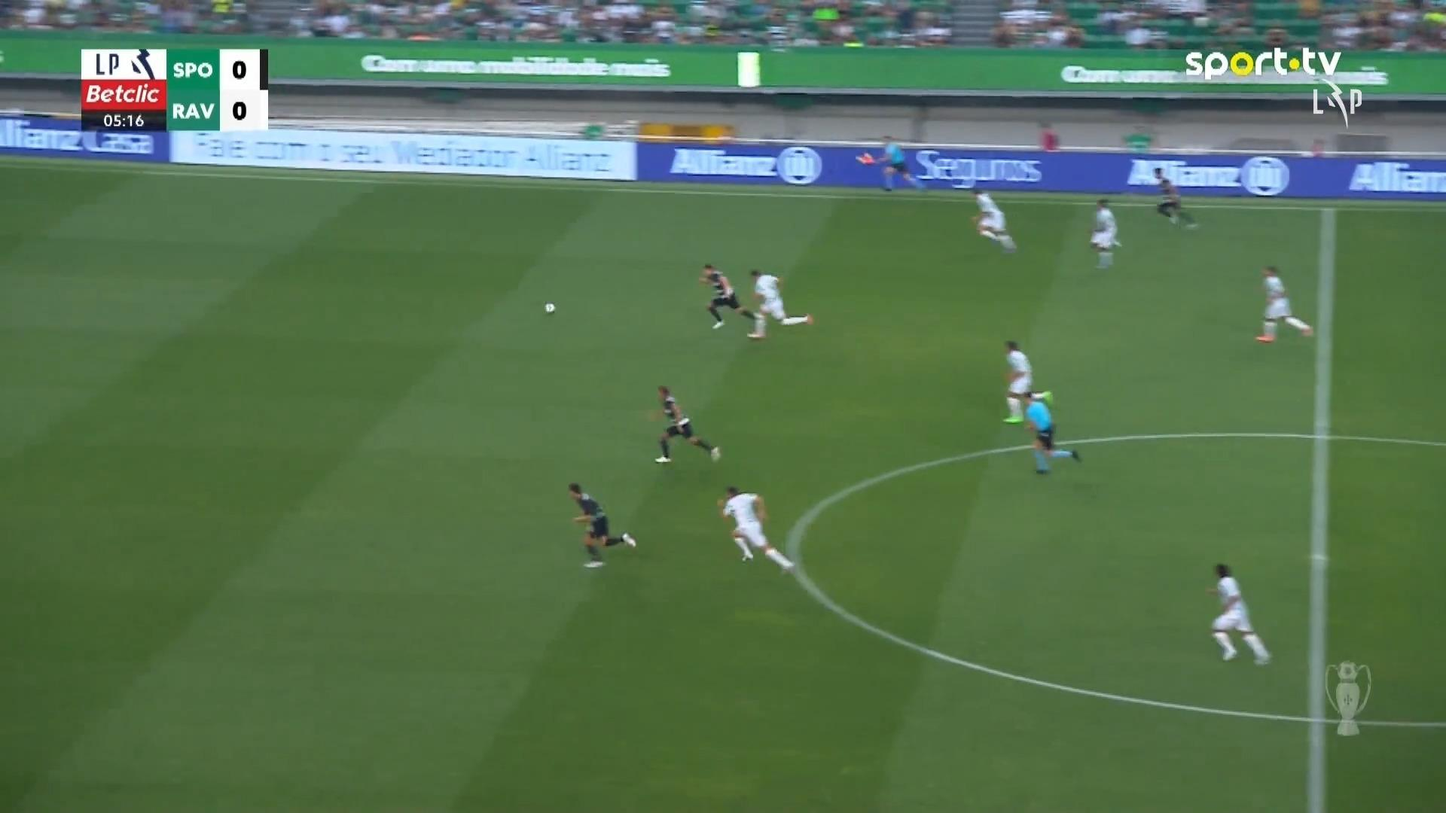ball: (621, 532, 636, 547), (544, 302, 555, 313)
player: (717, 484, 795, 574), (1206, 562, 1271, 665), (566, 481, 636, 568), (653, 384, 721, 464), (747, 267, 813, 339), (1255, 264, 1313, 343), (698, 262, 759, 330), (856, 133, 926, 192), (969, 185, 1017, 253), (1152, 166, 1198, 228), (1002, 339, 1033, 423), (1089, 196, 1121, 268)
referee: (1017, 388, 1081, 473)
